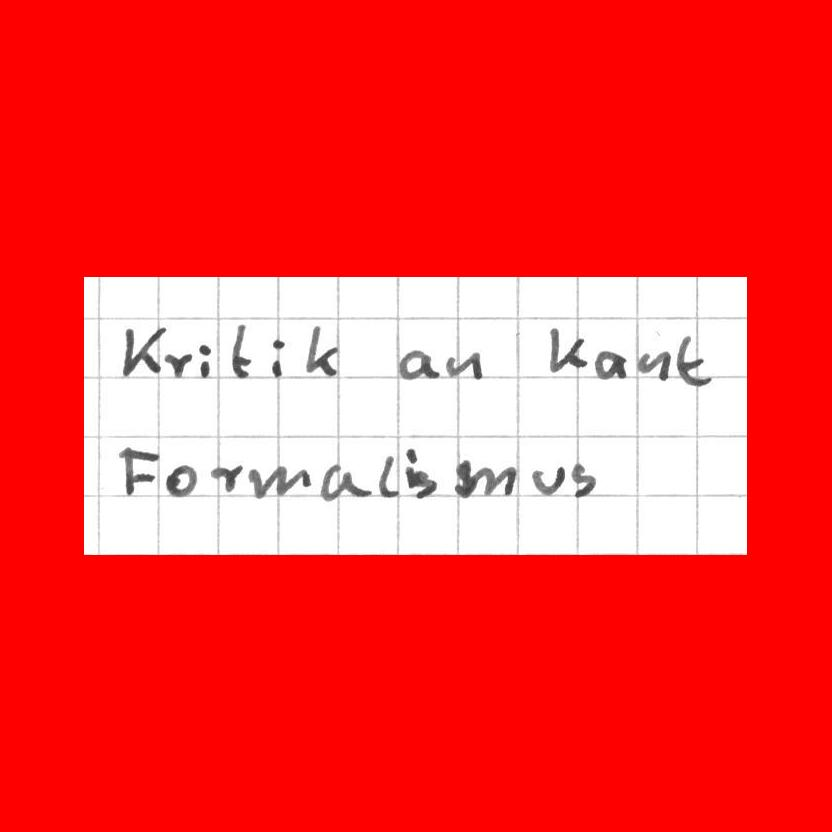Char: (121, 322, 167, 378), (117, 443, 161, 498), (246, 464, 310, 500), (672, 334, 713, 389), (546, 323, 585, 377), (318, 463, 367, 503), (304, 323, 340, 375), (403, 449, 439, 497), (396, 346, 442, 382), (228, 319, 255, 380), (475, 462, 518, 498), (443, 349, 487, 381), (593, 347, 628, 381), (530, 464, 565, 498), (164, 463, 197, 498), (636, 347, 668, 383), (570, 459, 598, 497), (375, 453, 398, 499), (209, 463, 242, 492), (162, 349, 193, 378), (452, 456, 472, 499), (269, 335, 287, 380), (196, 342, 213, 378)
